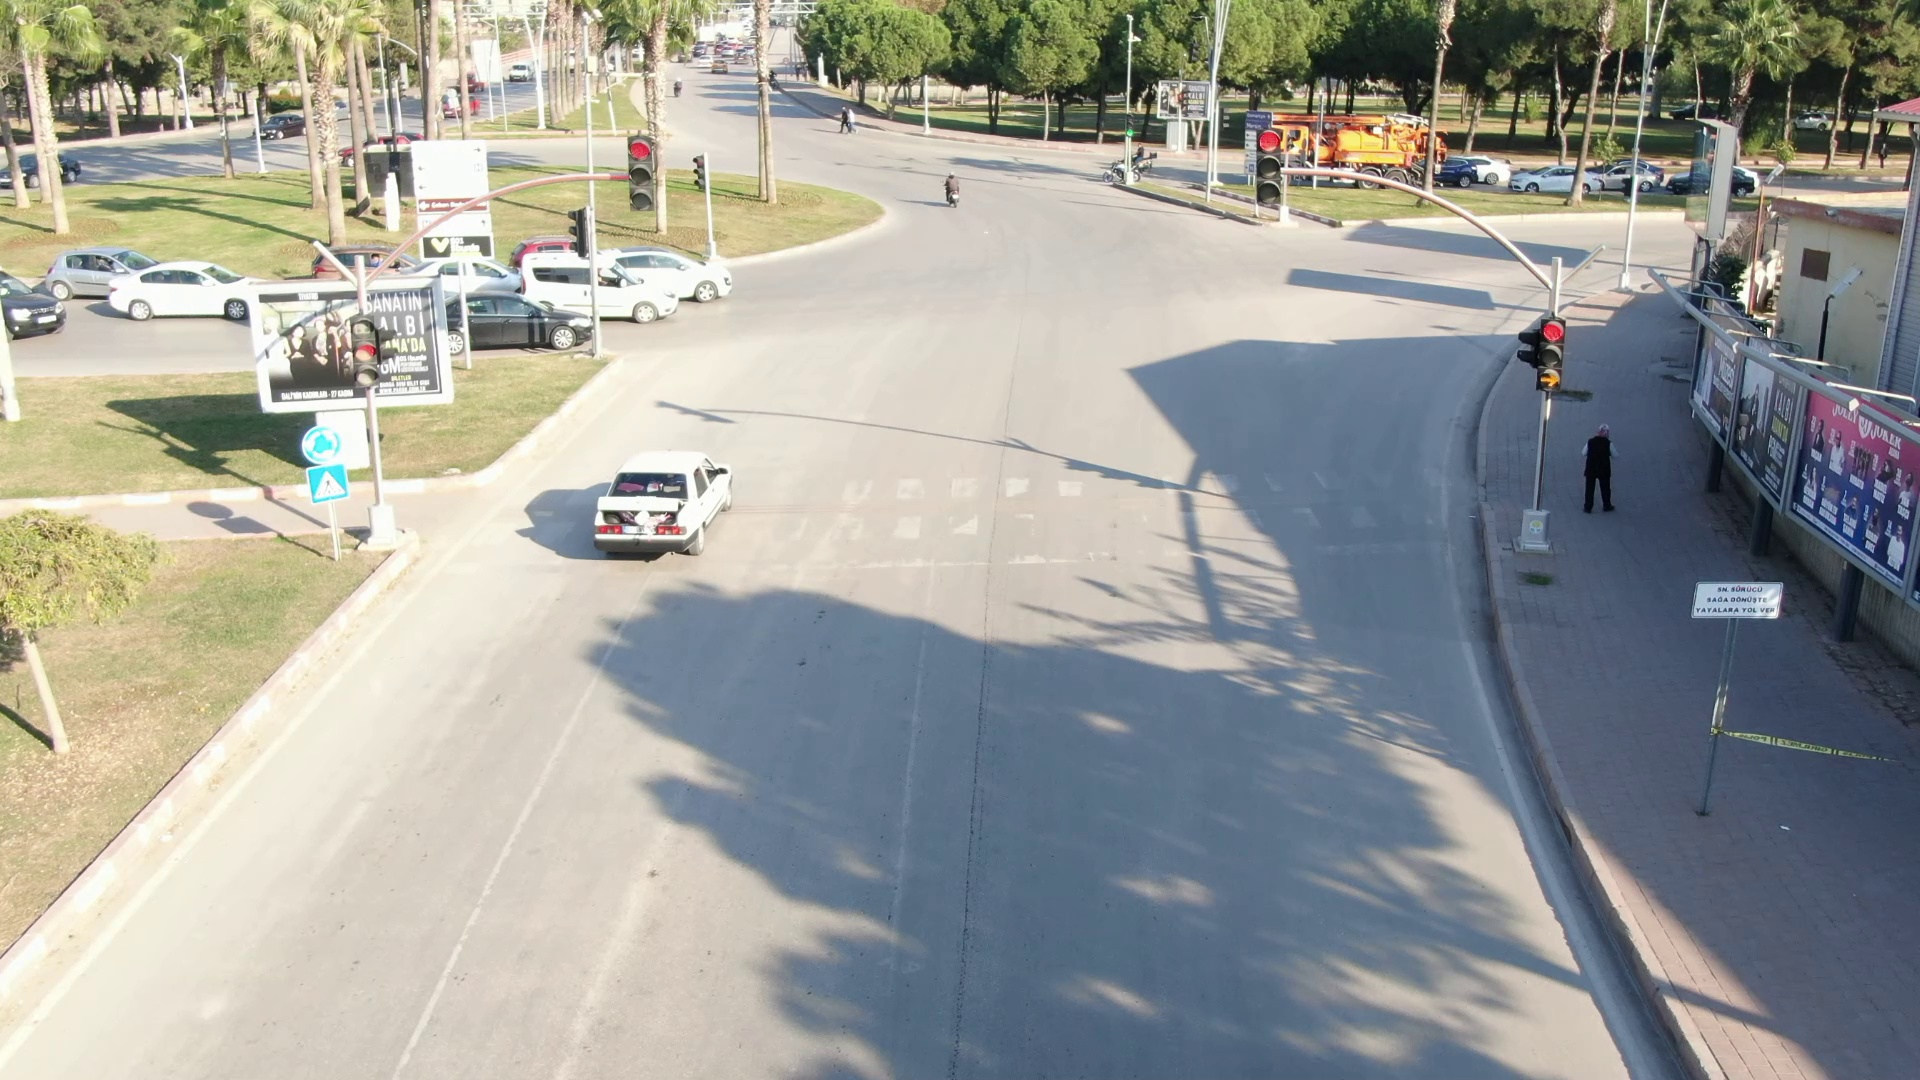car: (566, 439, 782, 570), (517, 239, 688, 319), (584, 231, 733, 304), (412, 290, 592, 351)
person: (1566, 408, 1637, 527), (927, 163, 974, 210)
